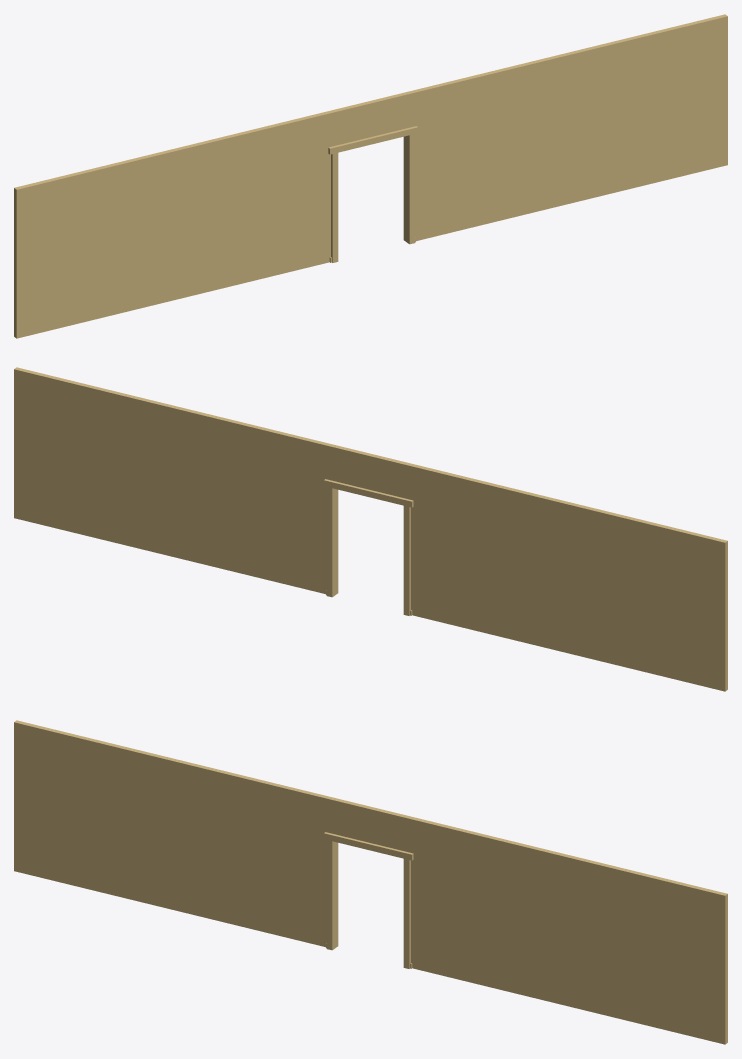
File: mod_wall_partition_door.glb
3 views of the same model, one above another, from view 1: azimuth 30°, elevation 25°; view 2: azimuth 150°, elevation 25°; view 3: azimuth 330°, elevation 25° (orthographic).
Parts seen in each view (by area): view 1: Mod_WallPartitionDoor; view 2: Mod_WallPartitionDoor; view 3: Mod_WallPartitionDoor.
Boxes of the visible parts, box(x1,y1,x2,y2) form: Mod_WallPartitionDoor: box(14, 14, 727, 338); Mod_WallPartitionDoor: box(14, 367, 727, 691); Mod_WallPartitionDoor: box(14, 720, 727, 1044).
Size of the model in its own units: 15 by 3 by 0.22.
